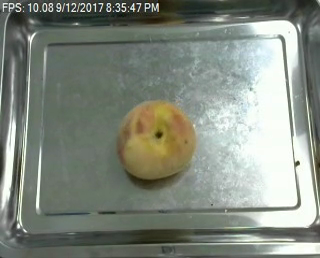Peach: (116, 100, 196, 179)
